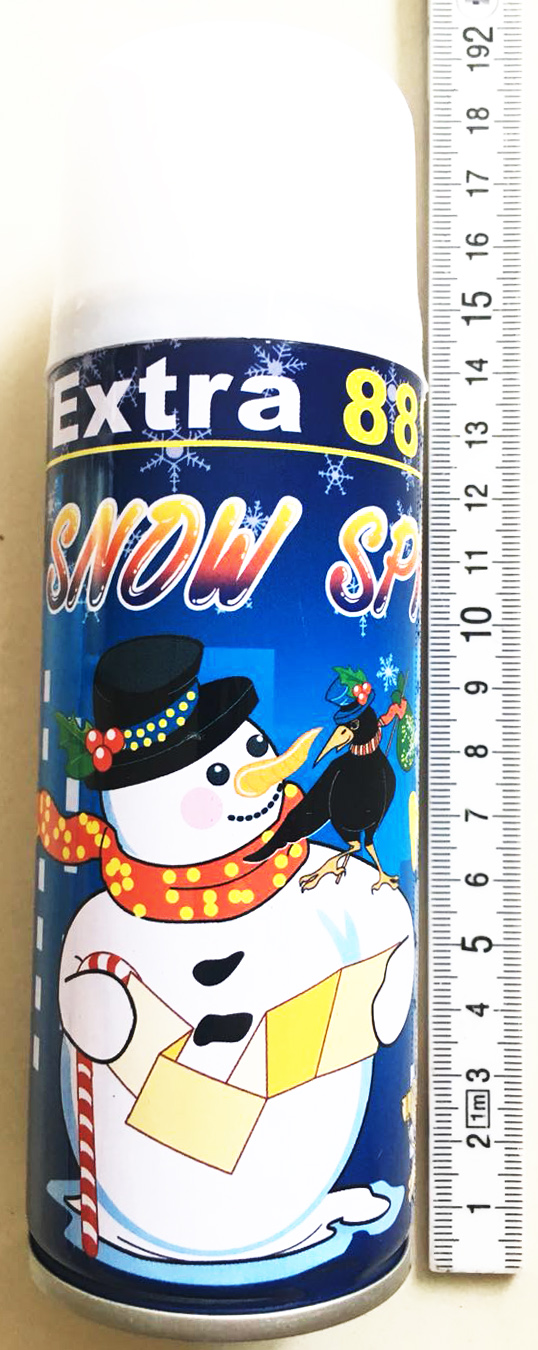Aerosol_cans: (30, 8, 421, 1350)
